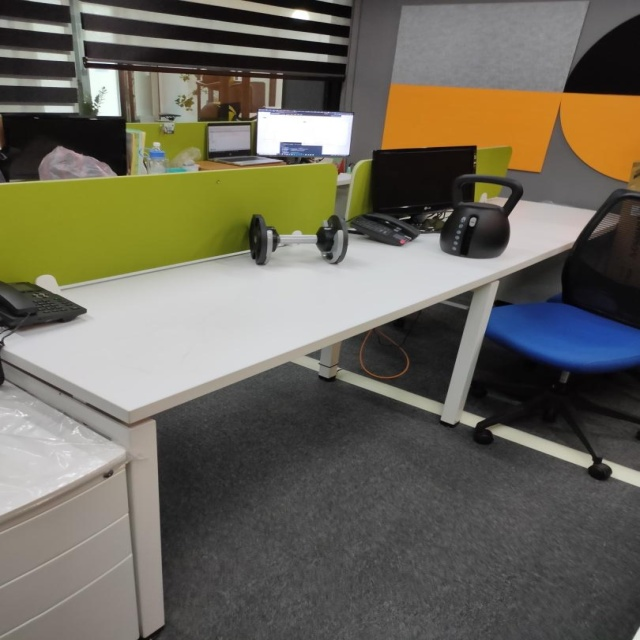02-4kg: (251, 215, 348, 266)
